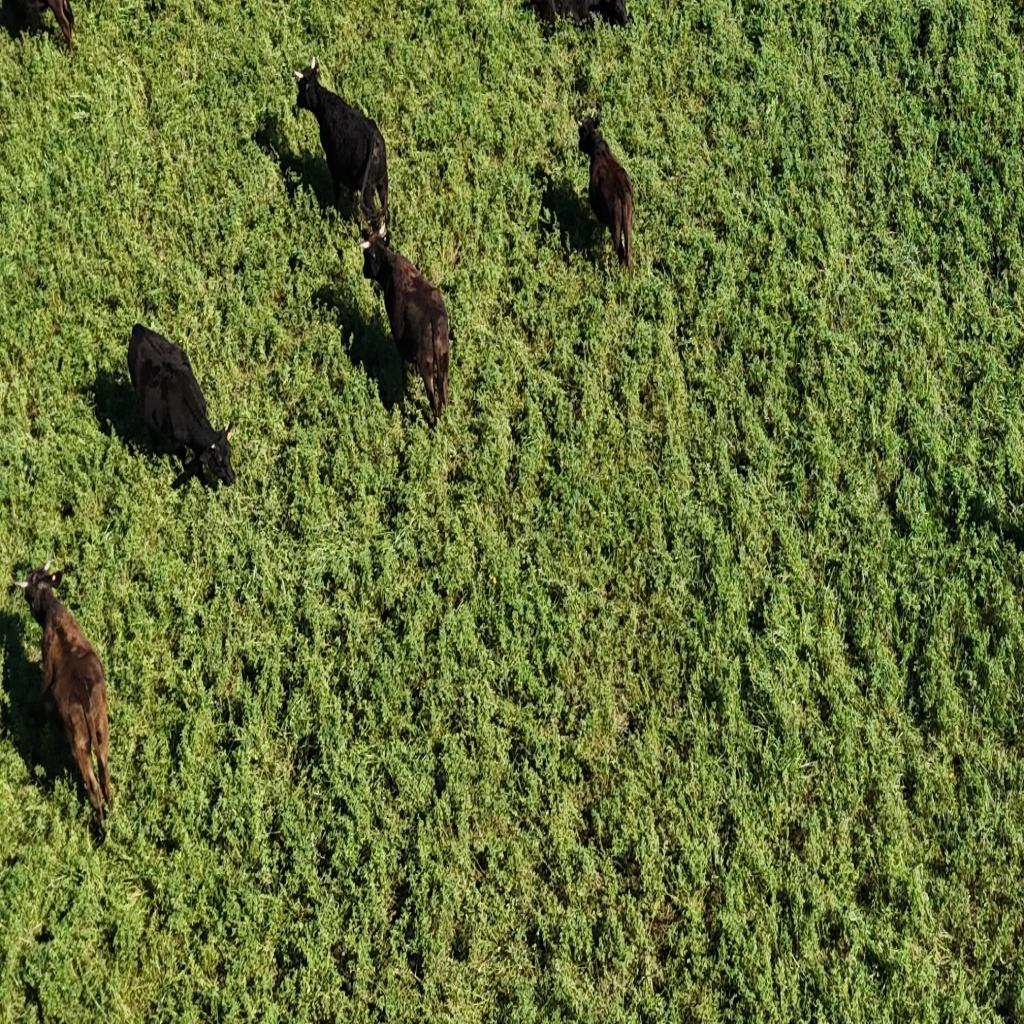cow: (5, 551, 116, 837), (293, 56, 393, 244), (125, 322, 238, 487), (359, 232, 451, 420), (575, 109, 641, 281), (3, 0, 75, 56), (529, 0, 628, 33)
